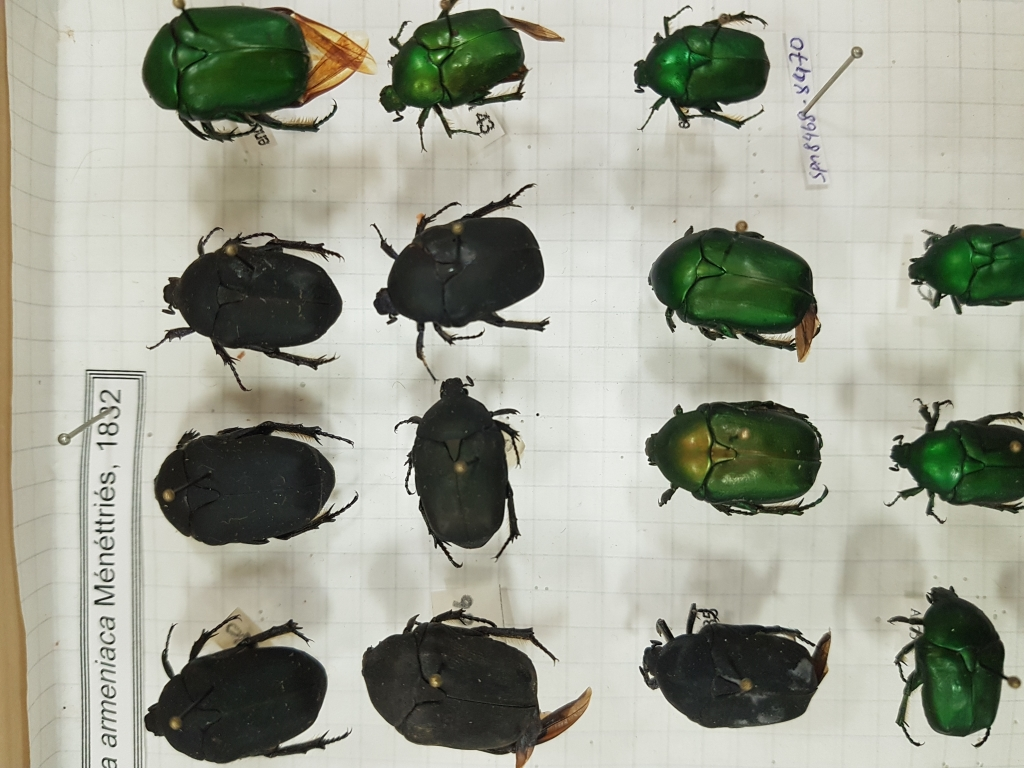Protaetia_ungarica_americana: (344, 597, 604, 765), (131, 5, 374, 150), (382, 177, 553, 375), (375, 377, 550, 560), (630, 594, 843, 735), (374, 2, 561, 150), (645, 217, 835, 361), (644, 383, 832, 528), (624, 3, 788, 135)
